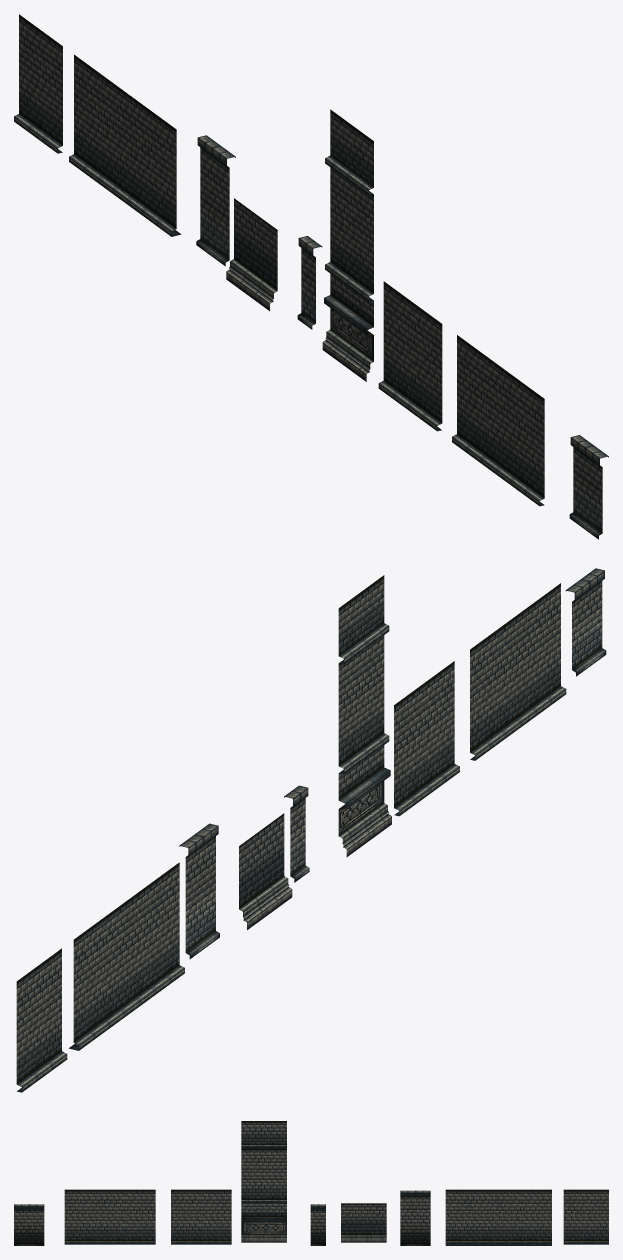
The model's file is EnvMdrMD_Daiseidou_A_Wall_A_3W_Loop.FBX.
The picture shows the model from 3 angles, top to bottom: view 1: azimuth 30°, elevation 25°; view 2: azimuth 150°, elevation 25°; view 3: azimuth 270°, elevation 25°; orthographic projection. The views are drawn at different scales.
Parts seen in each view (by area): view 1: EnvMdrMD_Daiseidou_A_Wall_A_7W_Loop, EnvMdrMD_Daiseidou_A_Wall_Room_2W_A, EnvMdrMD_Daiseidou_A_Wall_A_6W_Loop, EnvMdrMD_Daiseidou_A_Wall_A_4W_Loop, EnvMdrMD_Daiseidou_A_Wall_A_3W_Loop, EnvMdrMD_Daiseidou_A_Wall_A_3W_Start, EnvMdrMD_Daiseidou_A_Wall_E_Loop_400H, EnvMdrMD_Daiseidou_A_Wall_E_Loop, EnvMdrMD_Daiseidou_A_Wall_E_Loop_Half; view 2: EnvMdrMD_Daiseidou_A_Wall_A_7W_Loop, EnvMdrMD_Daiseidou_A_Wall_Room_2W_A, EnvMdrMD_Daiseidou_A_Wall_A_6W_Loop, EnvMdrMD_Daiseidou_A_Wall_A_4W_Loop, EnvMdrMD_Daiseidou_A_Wall_A_3W_Loop, EnvMdrMD_Daiseidou_A_Wall_A_3W_Start, EnvMdrMD_Daiseidou_A_Wall_E_Loop_400H, EnvMdrMD_Daiseidou_A_Wall_E_Loop, EnvMdrMD_Daiseidou_A_Wall_E_Loop_Half; view 3: EnvMdrMD_Daiseidou_A_Wall_A_7W_Loop, EnvMdrMD_Daiseidou_A_Wall_Room_2W_A, EnvMdrMD_Daiseidou_A_Wall_A_6W_Loop, EnvMdrMD_Daiseidou_A_Wall_A_4W_Loop, EnvMdrMD_Daiseidou_A_Wall_A_3W_Loop, EnvMdrMD_Daiseidou_A_Wall_A_3W_Start, EnvMdrMD_Daiseidou_A_Wall_E_Loop_400H, EnvMdrMD_Daiseidou_A_Wall_E_Loop, EnvMdrMD_Daiseidou_A_Wall_E_Loop_Half.
Part boxes in pixels (x1,y1,x2,y2): EnvMdrMD_Daiseidou_A_Wall_A_7W_Loop: (69,54,181,236); EnvMdrMD_Daiseidou_A_Wall_Room_2W_A: (322,109,373,381); EnvMdrMD_Daiseidou_A_Wall_A_6W_Loop: (452,335,544,506); EnvMdrMD_Daiseidou_A_Wall_A_4W_Loop: (378,281,442,431); EnvMdrMD_Daiseidou_A_Wall_A_3W_Loop: (14,14,62,153); EnvMdrMD_Daiseidou_A_Wall_A_3W_Start: (226,198,277,310); EnvMdrMD_Daiseidou_A_Wall_E_Loop_400H: (196,135,235,266); EnvMdrMD_Daiseidou_A_Wall_E_Loop: (569,435,608,539); EnvMdrMD_Daiseidou_A_Wall_E_Loop_Half: (297,236,322,329); EnvMdrMD_Daiseidou_A_Wall_A_7W_Loop: (68,862,184,1050); EnvMdrMD_Daiseidou_A_Wall_Room_2W_A: (338,575,391,856); EnvMdrMD_Daiseidou_A_Wall_A_6W_Loop: (470,583,566,760); EnvMdrMD_Daiseidou_A_Wall_A_4W_Loop: (394,661,459,816); EnvMdrMD_Daiseidou_A_Wall_A_3W_Loop: (16,948,67,1092); EnvMdrMD_Daiseidou_A_Wall_A_3W_Start: (239,813,292,929); EnvMdrMD_Daiseidou_A_Wall_E_Loop_400H: (179,823,219,959); EnvMdrMD_Daiseidou_A_Wall_E_Loop: (565,568,606,676); EnvMdrMD_Daiseidou_A_Wall_E_Loop_Half: (284,785,309,882); EnvMdrMD_Daiseidou_A_Wall_A_7W_Loop: (445,1189,551,1245); EnvMdrMD_Daiseidou_A_Wall_Room_2W_A: (241,1121,286,1242); EnvMdrMD_Daiseidou_A_Wall_A_6W_Loop: (64,1189,155,1244); EnvMdrMD_Daiseidou_A_Wall_A_4W_Loop: (171,1189,231,1244); EnvMdrMD_Daiseidou_A_Wall_A_3W_Loop: (563,1189,608,1244); EnvMdrMD_Daiseidou_A_Wall_A_3W_Start: (341,1203,386,1242); EnvMdrMD_Daiseidou_A_Wall_E_Loop_400H: (400,1190,430,1245); EnvMdrMD_Daiseidou_A_Wall_E_Loop: (14,1204,44,1245); EnvMdrMD_Daiseidou_A_Wall_E_Loop_Half: (310,1204,325,1245).
Bounding box in the file's own units: 90 × 900 × 3924.
1 material, 1 textured.
